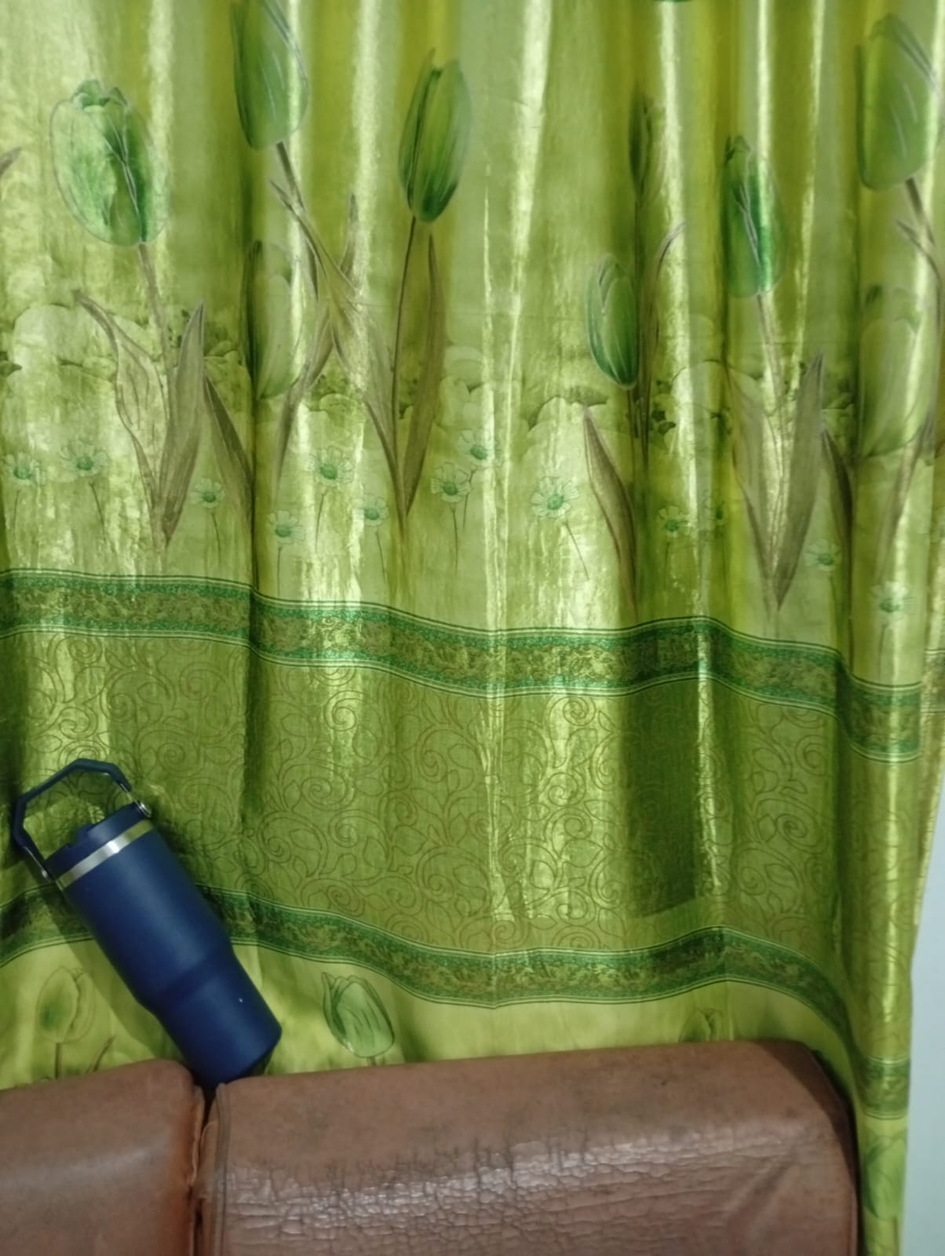Tupperware: (0, 815, 173, 1218)
